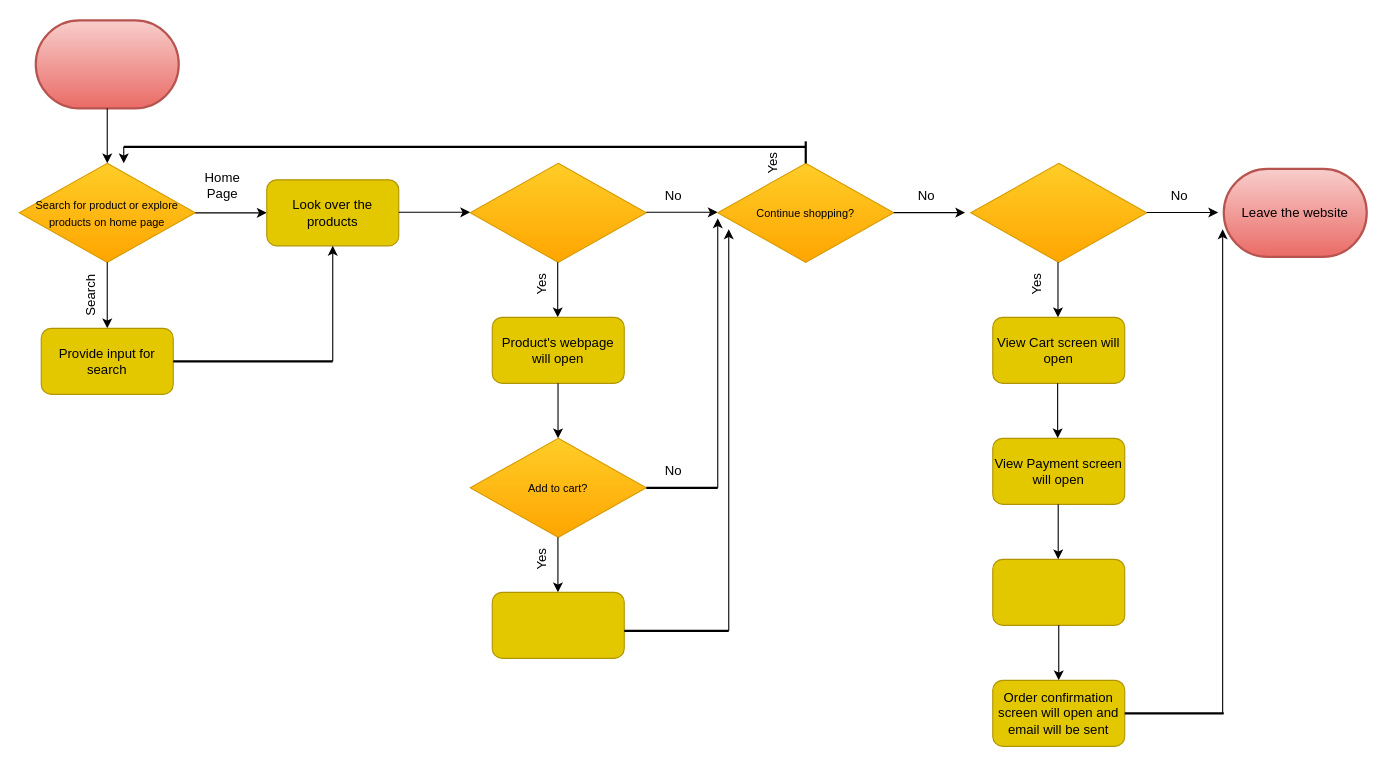
Some shapes in this 1387 by 766 pixel diagram are drawn without their labels. Here are the shapes that lost their labels. From the top down, the centre of each, then its label:
At point 106,64: "Enter the website".
At point 557,212: "View a specific product".
At point 1058,212: "Checkout?".
At point 1058,591: "Input payment information".
At point 557,624: "Added to cart confirmation".
